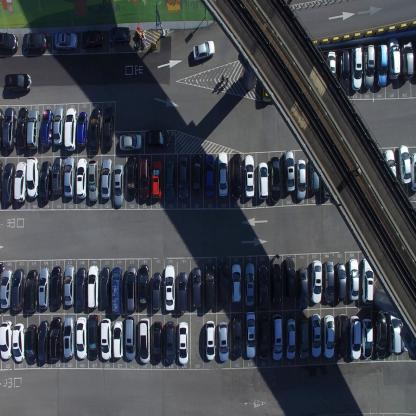car: (110, 265, 123, 316), (386, 36, 401, 80), (361, 43, 375, 89), (0, 162, 15, 204), (386, 308, 400, 353), (49, 315, 63, 360), (38, 160, 52, 204), (400, 37, 414, 81), (124, 314, 137, 361), (11, 268, 25, 311), (0, 267, 14, 310), (348, 314, 361, 360), (4, 71, 31, 93), (25, 156, 39, 198), (13, 161, 27, 203), (397, 143, 411, 185), (125, 264, 137, 313), (257, 315, 270, 360), (63, 107, 76, 152), (87, 264, 100, 309), (138, 316, 150, 364), (26, 108, 40, 149), (63, 155, 76, 199), (257, 264, 269, 311), (362, 256, 374, 303), (164, 264, 176, 311), (87, 313, 99, 360), (16, 107, 29, 150), (192, 39, 215, 63), (374, 312, 386, 358), (336, 312, 348, 358), (283, 255, 295, 301), (271, 314, 283, 360), (37, 318, 49, 364), (22, 31, 47, 53), (102, 105, 114, 150), (88, 107, 100, 152), (375, 42, 387, 87), (310, 259, 322, 304), (310, 313, 322, 358), (50, 264, 62, 309), (25, 268, 37, 313), (75, 315, 87, 360), (63, 315, 75, 360), (25, 324, 38, 365), (12, 322, 25, 363), (0, 319, 13, 360), (164, 159, 176, 203), (138, 156, 150, 200), (231, 316, 243, 360), (217, 150, 228, 198), (231, 153, 242, 201), (308, 150, 320, 194), (350, 46, 362, 90), (337, 48, 349, 92), (270, 264, 282, 308), (177, 321, 189, 365), (100, 316, 112, 360), (144, 128, 170, 148), (270, 155, 281, 202), (204, 318, 216, 361), (88, 158, 100, 201), (3, 107, 15, 150), (283, 149, 295, 192), (297, 267, 309, 310), (63, 264, 75, 307), (384, 148, 397, 187), (204, 263, 215, 309), (244, 154, 255, 200), (361, 316, 373, 358), (347, 258, 359, 300), (217, 263, 228, 308), (323, 313, 334, 358), (138, 263, 149, 308), (40, 108, 53, 146), (150, 159, 162, 200), (218, 321, 230, 362), (334, 262, 346, 303), (297, 318, 309, 359), (245, 310, 255, 359), (178, 155, 189, 199), (113, 163, 124, 207), (204, 154, 215, 198), (323, 260, 334, 304), (165, 320, 176, 364), (51, 156, 63, 196), (80, 30, 104, 50), (53, 31, 78, 50), (101, 157, 112, 200), (76, 156, 87, 199), (191, 266, 202, 309), (100, 266, 111, 309), (151, 320, 162, 363), (257, 161, 269, 200), (295, 158, 306, 200), (285, 318, 296, 360), (177, 271, 188, 313), (38, 266, 49, 308), (127, 154, 137, 200), (76, 110, 88, 148), (244, 263, 254, 308), (118, 133, 143, 151), (400, 315, 412, 352), (230, 264, 241, 304), (192, 152, 202, 196), (326, 48, 336, 92), (151, 271, 162, 311), (76, 266, 86, 310), (112, 319, 123, 359), (0, 31, 19, 53), (107, 27, 130, 45), (322, 162, 333, 199), (53, 106, 63, 146), (410, 151, 416, 193), (0, 107, 4, 147)
